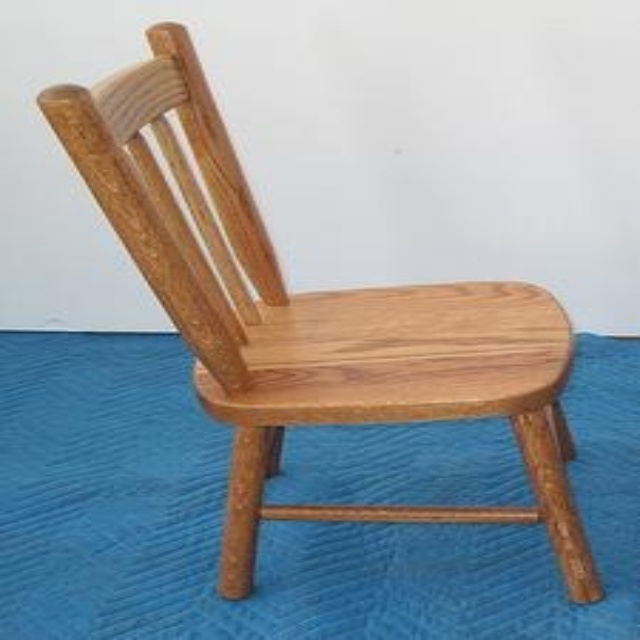obstacle: (37, 23, 600, 601)
